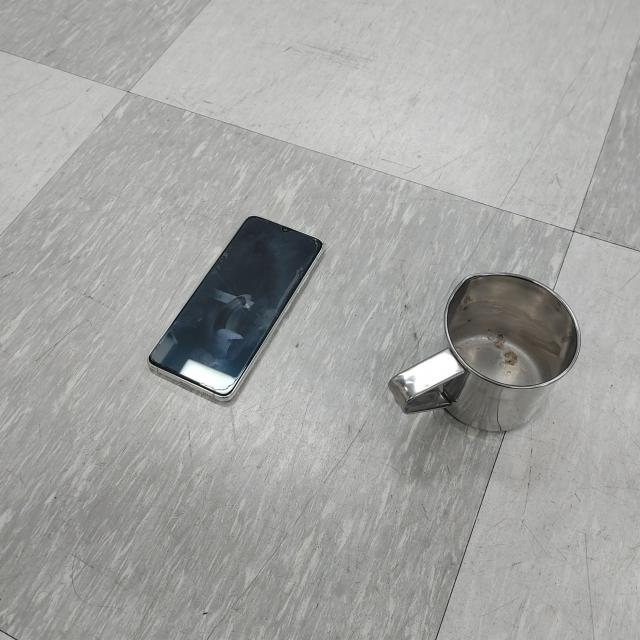cup: (388, 269, 580, 434)
phone: (141, 211, 326, 404)
